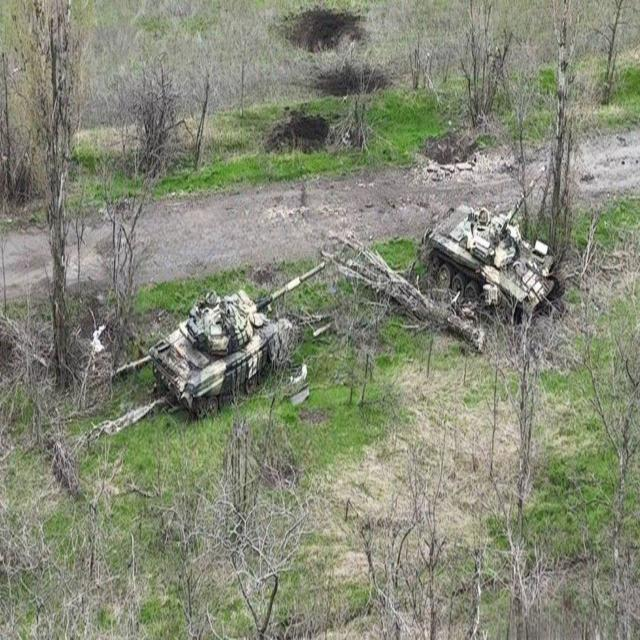MBT: (151, 262, 329, 414), (423, 163, 563, 313)
